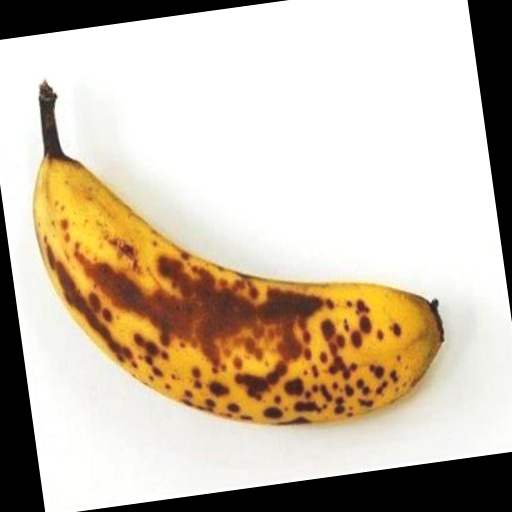fruit: (34, 83, 443, 424)
